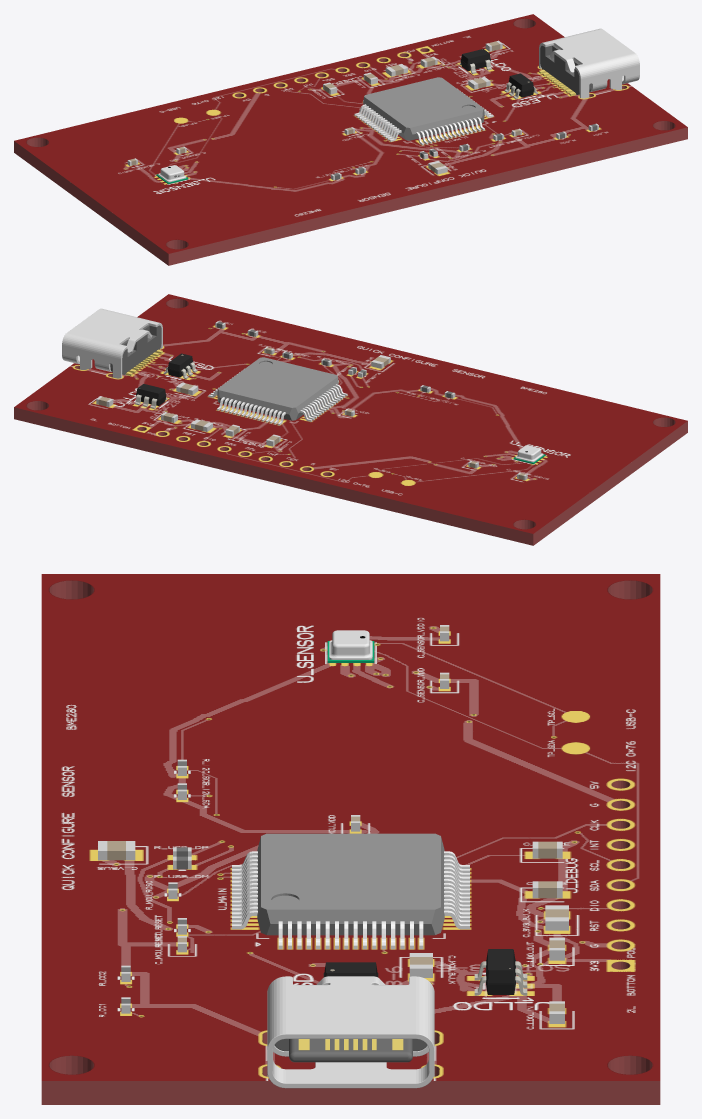
3 renders of one model, top to bottom at view 1: azimuth 30°, elevation 25°; view 2: azimuth 150°, elevation 25°; view 3: azimuth 270°, elevation 25°, orthographic. The views are drawn at different scales.
Parts seen in each view (by area): view 1: Box0, U_MAIN, J_USB, U_LDO, U_ESD, U_SENSOR; view 2: Box0, U_MAIN, J_USB, U_LDO, U_ESD, U_SENSOR; view 3: Box0, U_MAIN, J_USB, U_LDO, U_SENSOR, U_ESD.
Part boxes in pixels (x1=…): Box0: x1=14, y1=14, x2=687, y2=265; U_MAIN: x1=354, y1=77, x2=493, y2=145; J_USB: x1=539, y1=28, x2=639, y2=98; U_LDO: x1=459, y1=49, x2=491, y2=73; U_ESD: x1=504, y1=73, x2=538, y2=99; U_SENSOR: x1=156, y1=165, x2=188, y2=184; Box0: x1=14, y1=294, x2=687, y2=545; U_MAIN: x1=208, y1=357, x2=347, y2=425; J_USB: x1=62, y1=308, x2=162, y2=378; U_LDO: x1=135, y1=384, x2=167, y2=408; U_ESD: x1=163, y1=353, x2=197, y2=379; U_SENSOR: x1=513, y1=445, x2=545, y2=464; Box0: x1=41, y1=574, x2=660, y2=1104; U_MAIN: x1=232, y1=833, x2=469, y2=949; J_USB: x1=267, y1=976, x2=434, y2=1088; U_LDO: x1=474, y1=949, x2=527, y2=995; U_SENSOR: x1=327, y1=630, x2=374, y2=662; U_ESD: x1=323, y1=962, x2=378, y2=977.
Bounding box in the file's own units: 65.04 × 4.65 × 33.
18 materials, 2 textured.
